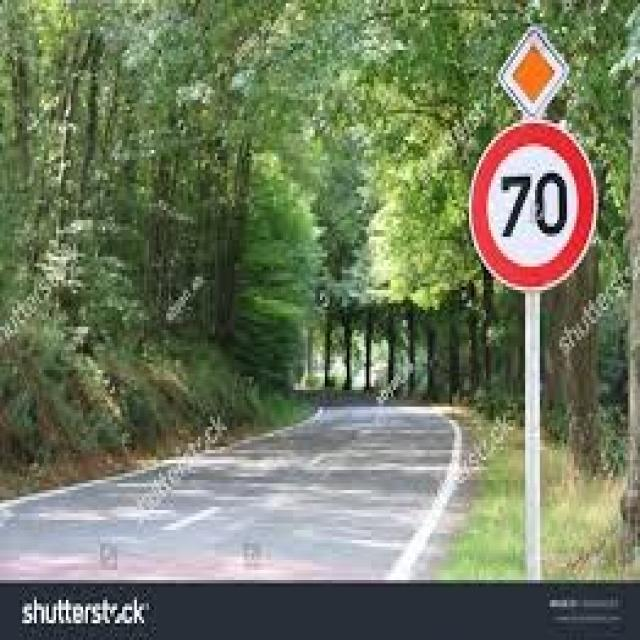speed_limit_70: (468, 116, 600, 296)
